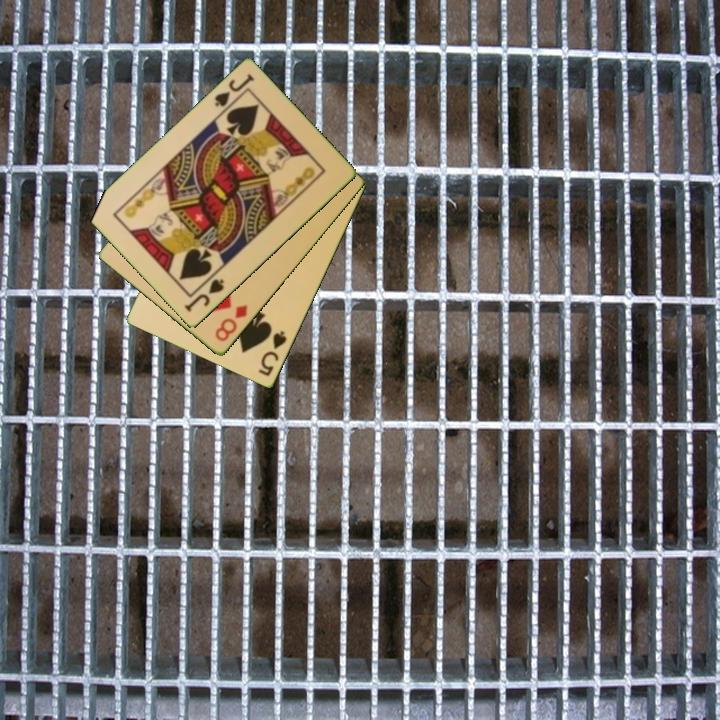5s: (255, 328, 290, 380)
8d: (212, 301, 251, 345)
Js: (181, 275, 227, 315), (211, 71, 257, 110)
